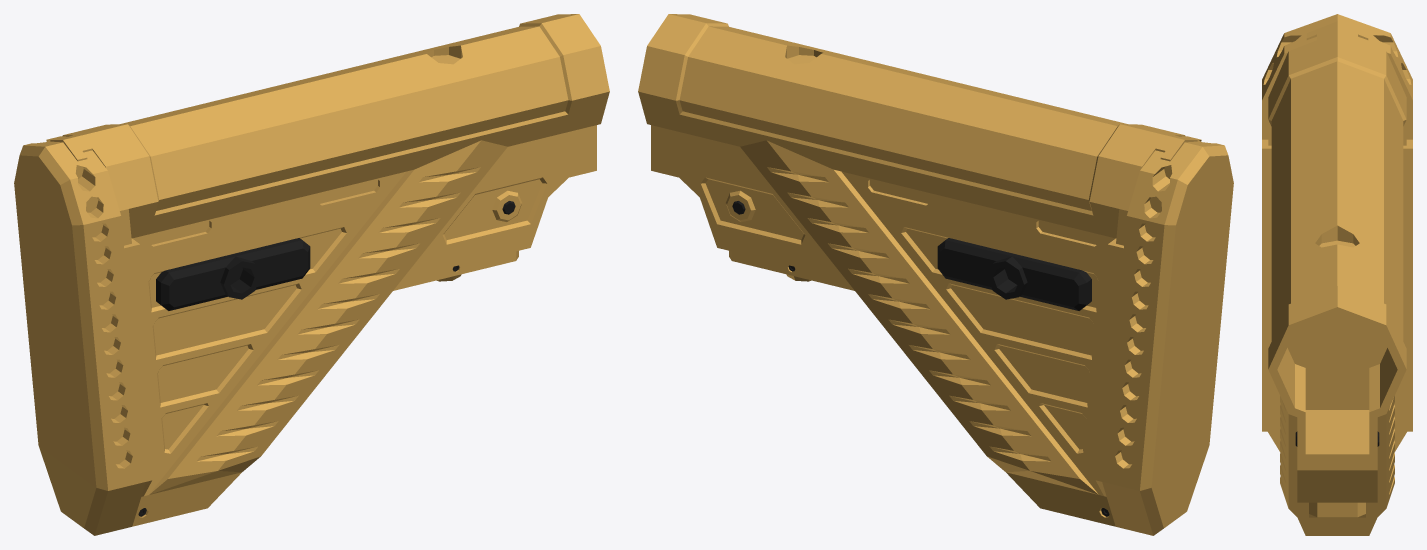
The model's file is g95_a1_stock.glb.
3 views of the same model, side by side, from view 1: azimuth 30°, elevation 25°; view 2: azimuth 150°, elevation 25°; view 3: azimuth 270°, elevation 25° (orthographic). The views are drawn at different scales.
Parts seen in each view (by area): view 1: g95 stock_14 (×2); view 2: g95 stock_14 (×2); view 3: g95 stock_14.
Boxes of the visible parts, x1,y1,x2,y2 form: g95 stock_14 (×2): [14, 14, 609, 535]; g95 stock_14 (×2): [638, 14, 1233, 535]; g95 stock_14: [1262, 14, 1412, 535].
Bounding box in the file's own units: 1.72 × 1.19 × 0.366.
